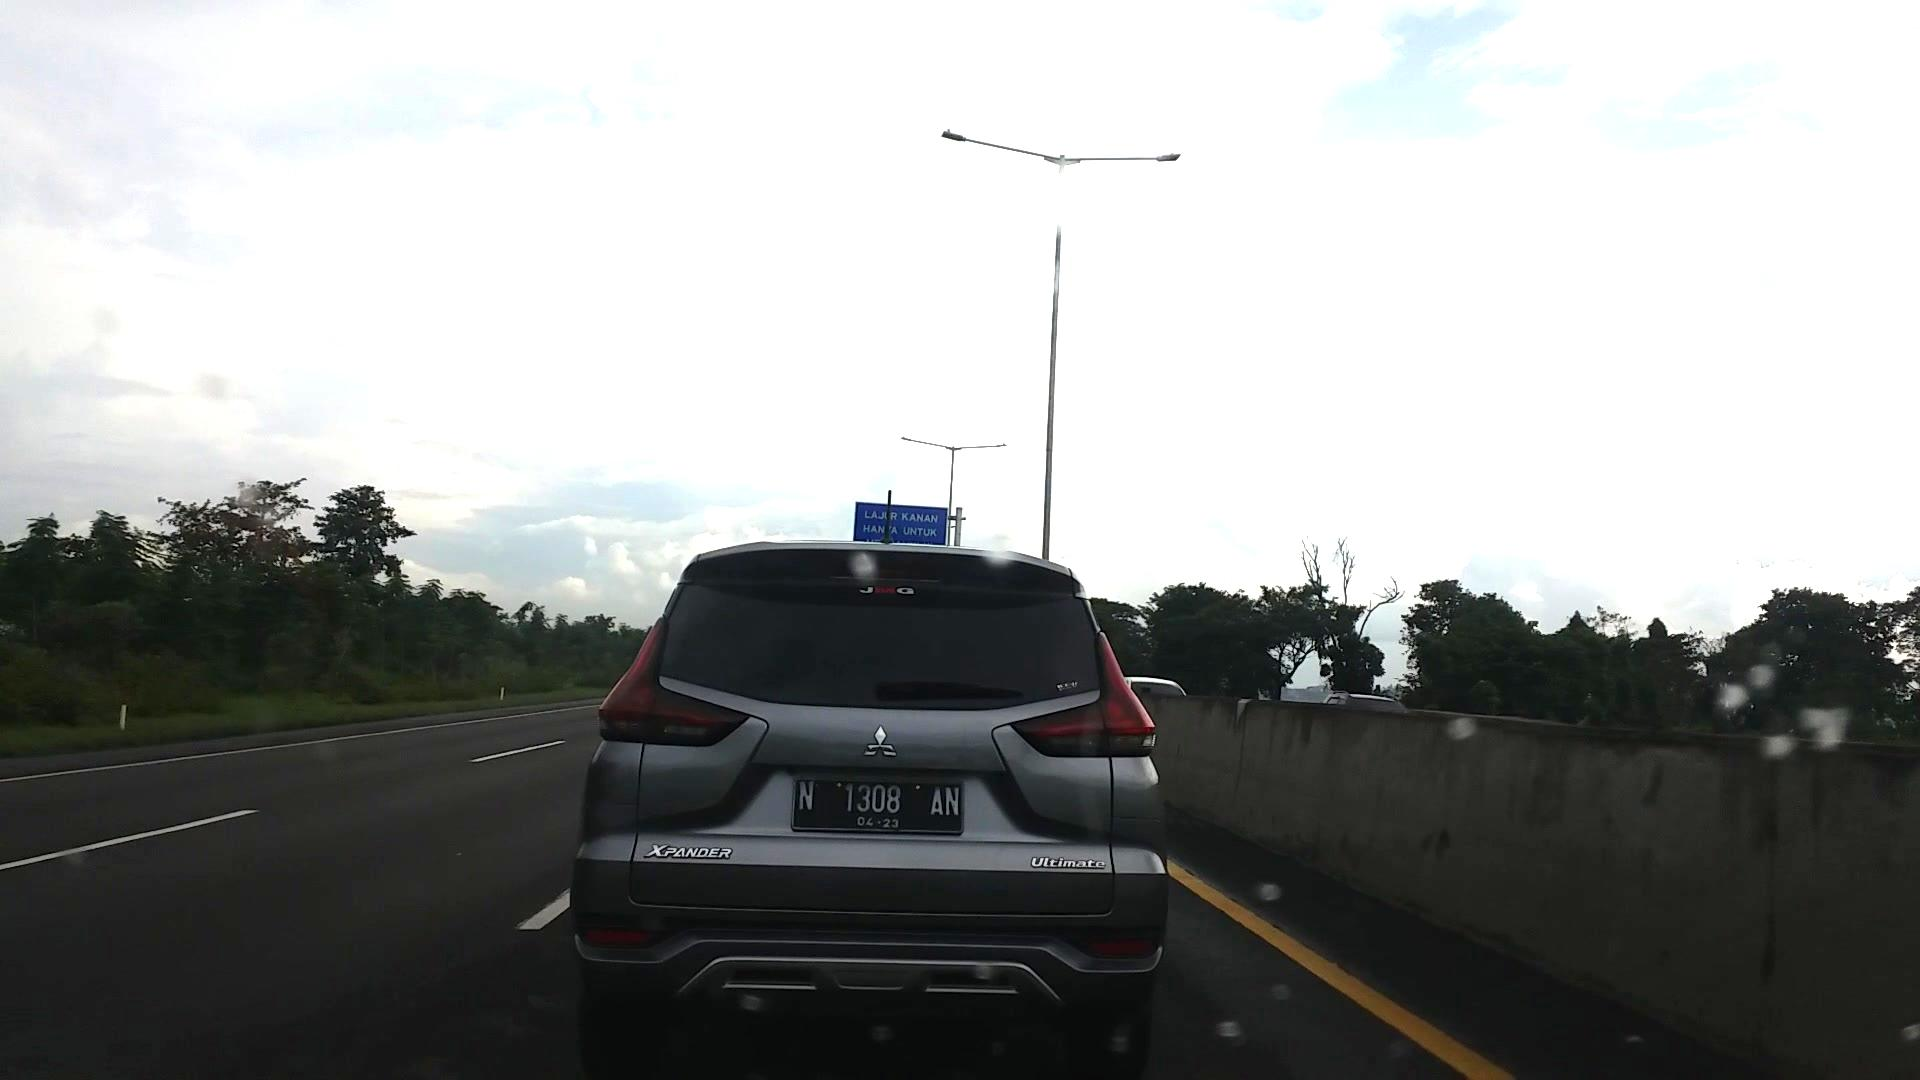plate_positive: (793, 777, 963, 836)
